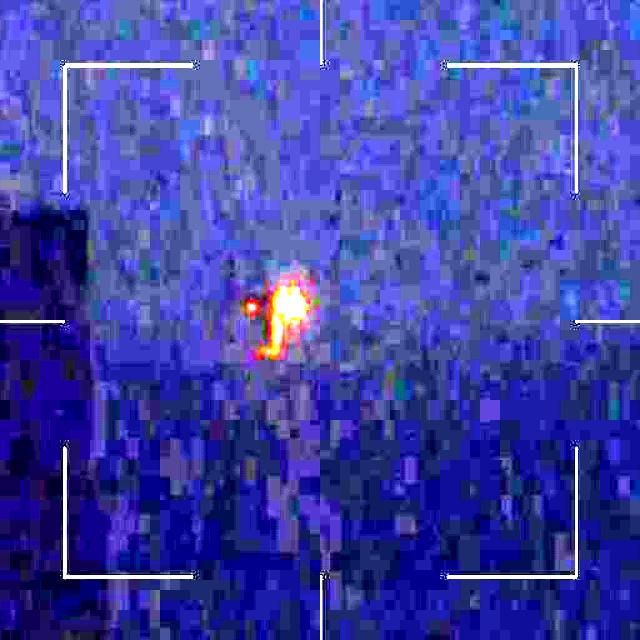bird: (222, 279, 302, 361)
